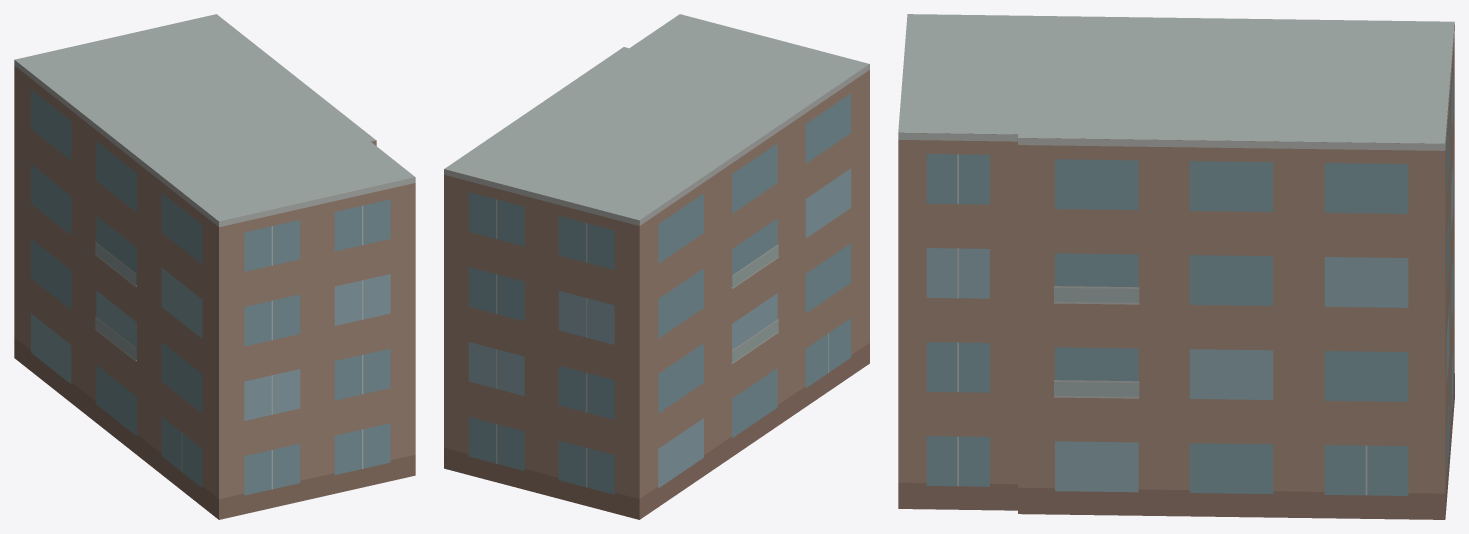
Rendered from survey-upis-32827291.glb.
3 views of the same model, side by side, from view 1: azimuth 30°, elevation 25°; view 2: azimuth 150°, elevation 25°; view 3: azimuth 270°, elevation 25° (orthographic). The views are drawn at different scales.
Visible parts, largest first — view 1: survey-upis-32827291.tmp; view 2: survey-upis-32827291.tmp; view 3: survey-upis-32827291.tmp.
Boxes of the visible parts, x1,y1,x2,y2 form: survey-upis-32827291.tmp: (14,14,415,519); survey-upis-32827291.tmp: (444,14,869,519); survey-upis-32827291.tmp: (898,14,1454,519).
Bounding box in the file's own units: 9.48 × 12.8 × 17.18.
